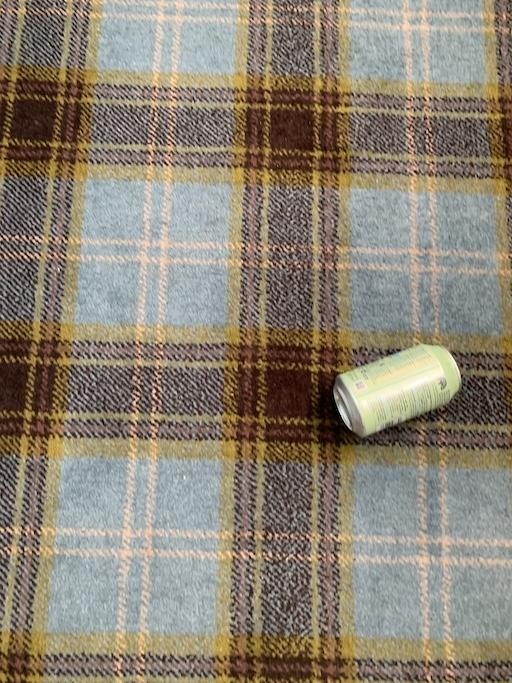Aluminum can: (295, 325, 486, 450)
